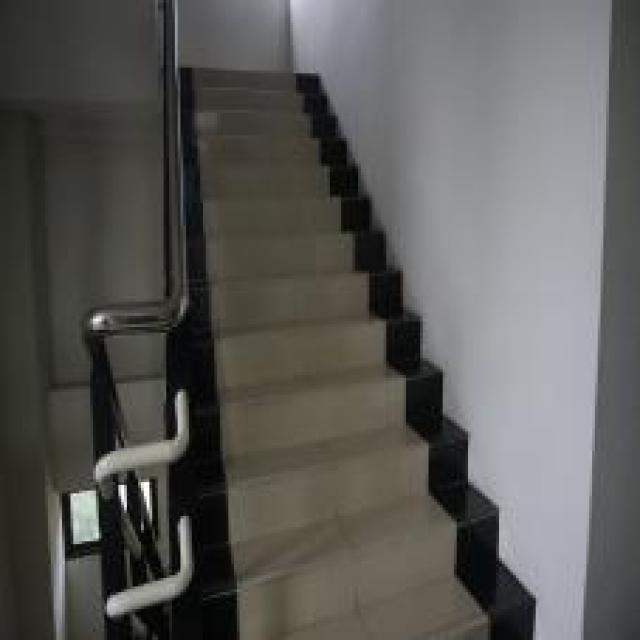upstair: (190, 58, 446, 639)
